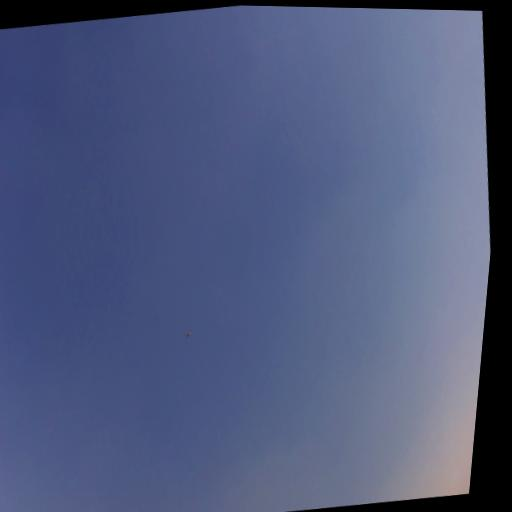drones: (183, 327, 194, 341)
